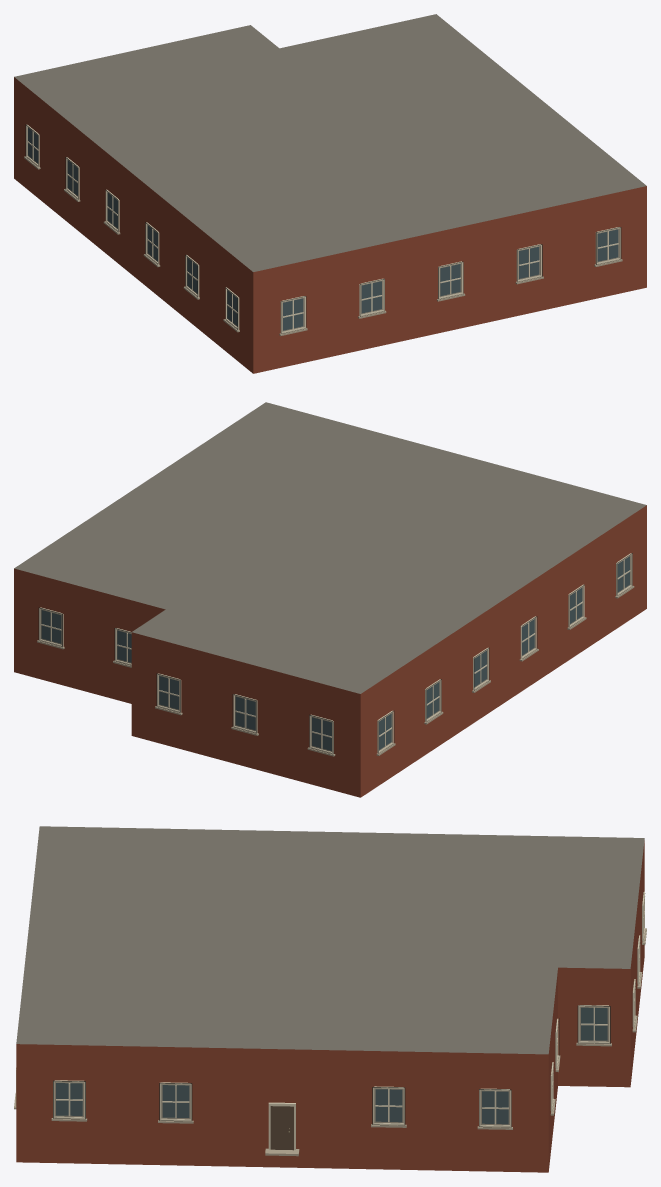
3 renders of one model, top to bottom at view 1: azimuth 30°, elevation 25°; view 2: azimuth 150°, elevation 25°; view 3: azimuth 270°, elevation 25°, orthographic. The views are drawn at different scales.
Visible parts, largest first — view 1: -4_-4_599928437_1; view 2: -4_-4_599928437_1; view 3: -4_-4_599928437_1.
Boxes of the visible parts, left/top/right/bottom form: -4_-4_599928437_1: left=14, top=14, right=646, bottom=373; -4_-4_599928437_1: left=14, top=402, right=646, bottom=797; -4_-4_599928437_1: left=14, top=826, right=646, bottom=1172.
Bounding box in the file's own units: 24.26 × 5.82 × 28.21.
